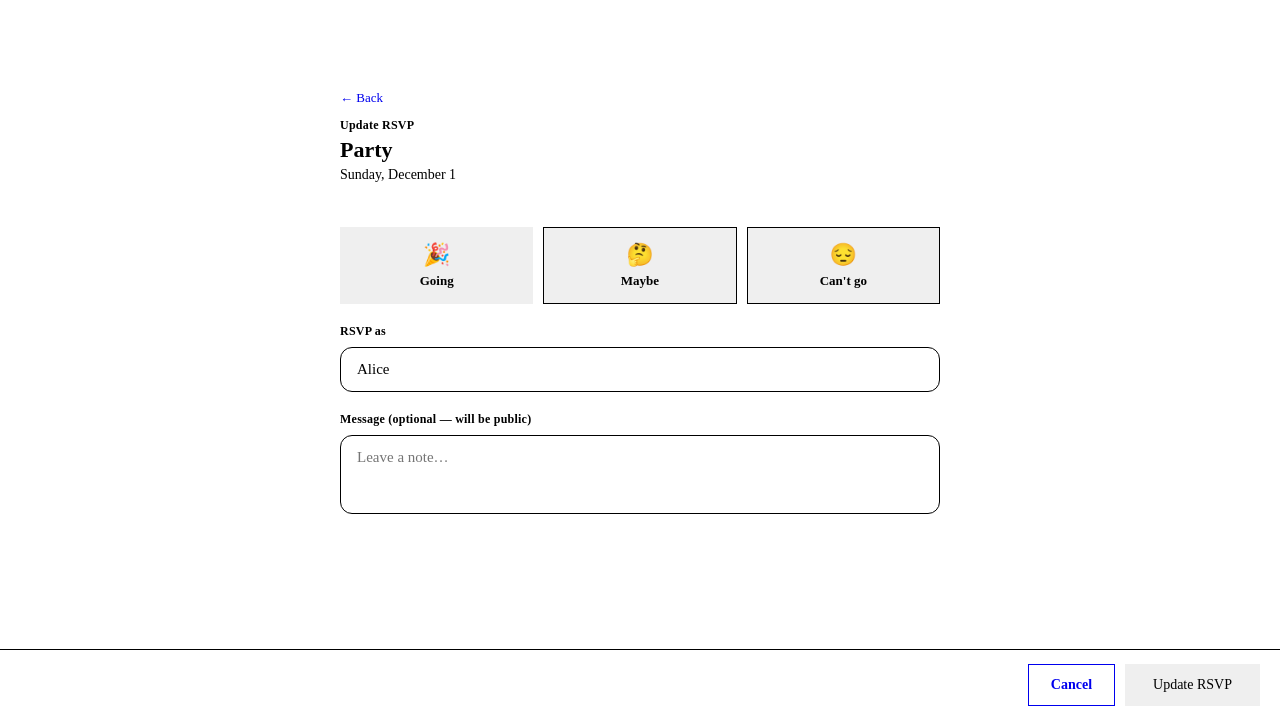
#754 edit-link box on the RSVP done screen › gives a host editing a contactless guest a host-worded copy box
Step 1. Click the button "Update RSVP" → coordinates (1192, 685), box [1125, 664, 1260, 706]
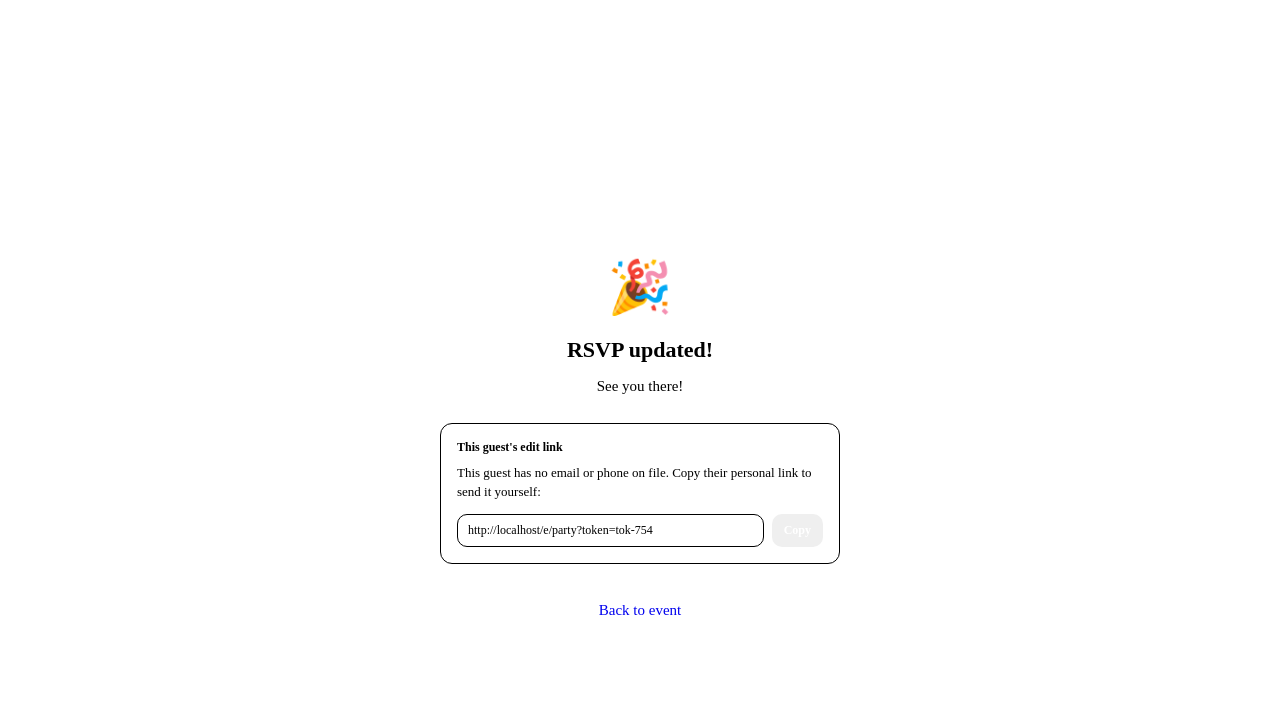
Expected: the heading "RSVP updated!" is shown, [567, 337, 713, 362]
Expected: the text "This guest's edit link" is shown, [457, 440, 563, 454]
Expected: the text "This guest has no email or phone on file" is shown, [457, 465, 812, 499]
